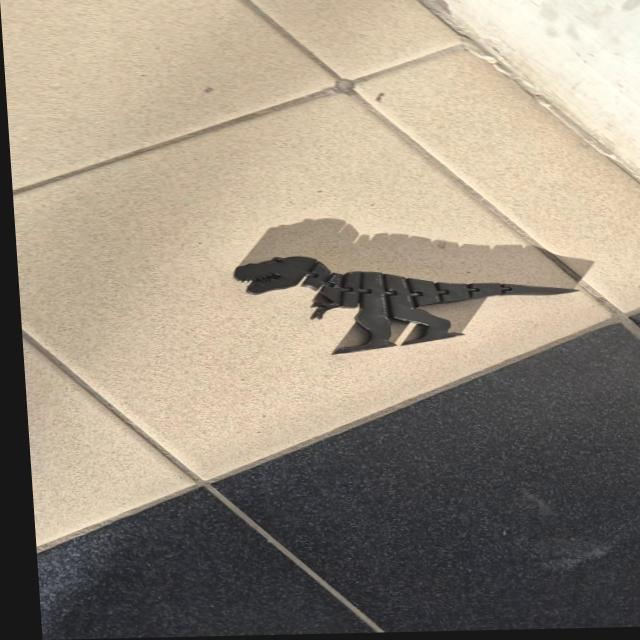dino: (231, 249, 586, 358)
